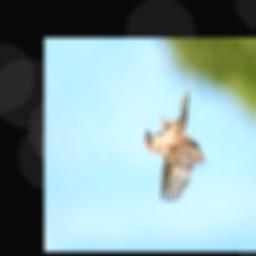Sparrow: (144, 89, 206, 202)
